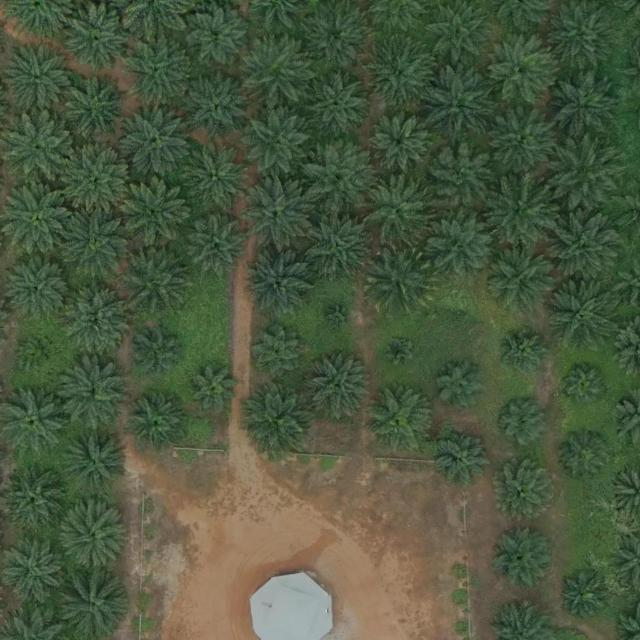Kelapa_Sawit: (548, 137, 618, 208), (549, 210, 619, 281), (545, 274, 615, 345), (485, 106, 555, 177), (483, 175, 553, 246), (422, 68, 492, 139), (365, 40, 435, 111), (61, 283, 131, 354), (2, 183, 72, 254), (364, 384, 434, 455), (363, 244, 433, 314), (300, 0, 370, 70), (546, 70, 616, 140), (484, 35, 554, 105), (486, 243, 556, 313), (425, 143, 495, 213), (428, 210, 498, 280), (362, 175, 432, 245), (300, 141, 370, 211), (302, 208, 372, 278), (239, 34, 309, 104), (242, 108, 312, 178), (242, 179, 312, 249), (244, 250, 314, 320), (179, 139, 249, 209), (121, 37, 191, 107), (120, 106, 190, 176), (123, 176, 193, 246), (122, 243, 192, 313), (63, 2, 133, 72), (64, 145, 134, 215), (60, 205, 130, 275), (2, 42, 72, 112), (4, 115, 74, 185), (57, 360, 127, 430), (60, 425, 130, 495), (60, 502, 130, 572), (244, 384, 314, 454), (302, 352, 372, 422), (185, 7, 247, 70), (368, 111, 430, 174), (307, 74, 369, 137), (185, 72, 247, 135), (186, 214, 248, 277), (67, 76, 129, 139), (7, 256, 69, 318), (1, 538, 63, 600), (494, 459, 556, 521), (491, 526, 553, 588), (129, 395, 184, 450), (438, 429, 493, 484), (252, 326, 306, 381), (433, 358, 487, 413), (495, 326, 549, 381), (493, 394, 547, 449), (557, 429, 611, 484), (135, 333, 181, 380), (561, 572, 607, 619), (189, 364, 235, 410), (559, 361, 605, 407), (21, 335, 59, 374), (324, 300, 355, 331), (383, 335, 414, 366), (443, 296, 474, 327)
